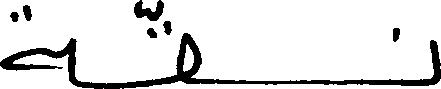X: (0, 0, 74, 88), (177, 28, 201, 88), (428, 35, 440, 88)
